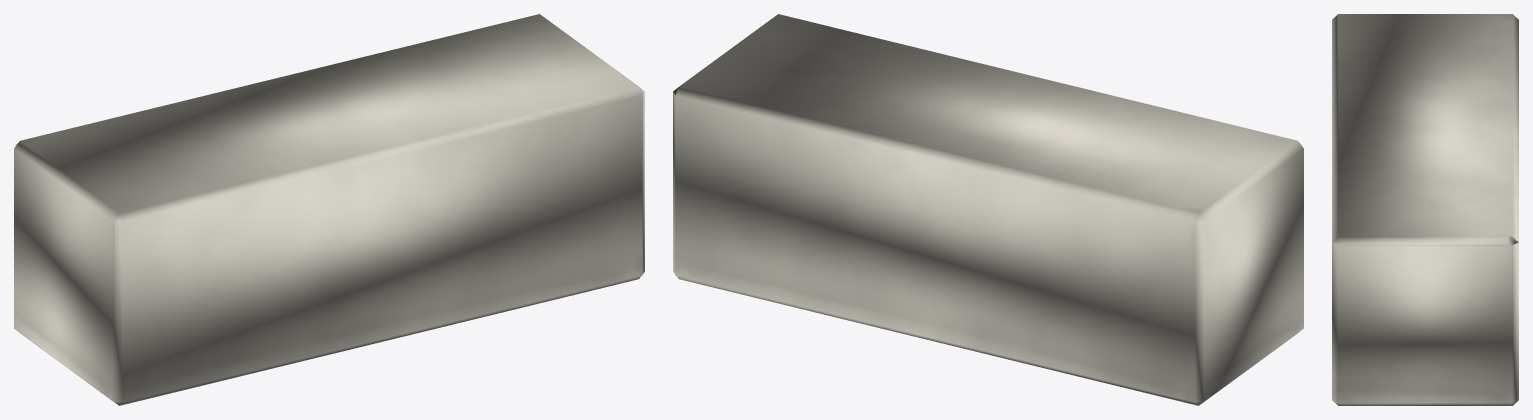
The model's file is Taxi_Cartel.fbx.
The picture shows the model from 3 angles, left to right: view 1: azimuth 30°, elevation 25°; view 2: azimuth 150°, elevation 25°; view 3: azimuth 270°, elevation 25°; orthographic projection. The views are drawn at different scales.
Visible parts, largest first — view 1: Taxi_Cartel; view 2: Taxi_Cartel; view 3: Taxi_Cartel.
Boxes of the visible parts, left/top/right/bottom form: Taxi_Cartel: left=14, top=14, right=644, bottom=405; Taxi_Cartel: left=673, top=14, right=1303, bottom=405; Taxi_Cartel: left=1332, top=14, right=1518, bottom=405.
Size of the model in its own units: 2.6 by 0.95 by 0.9.
